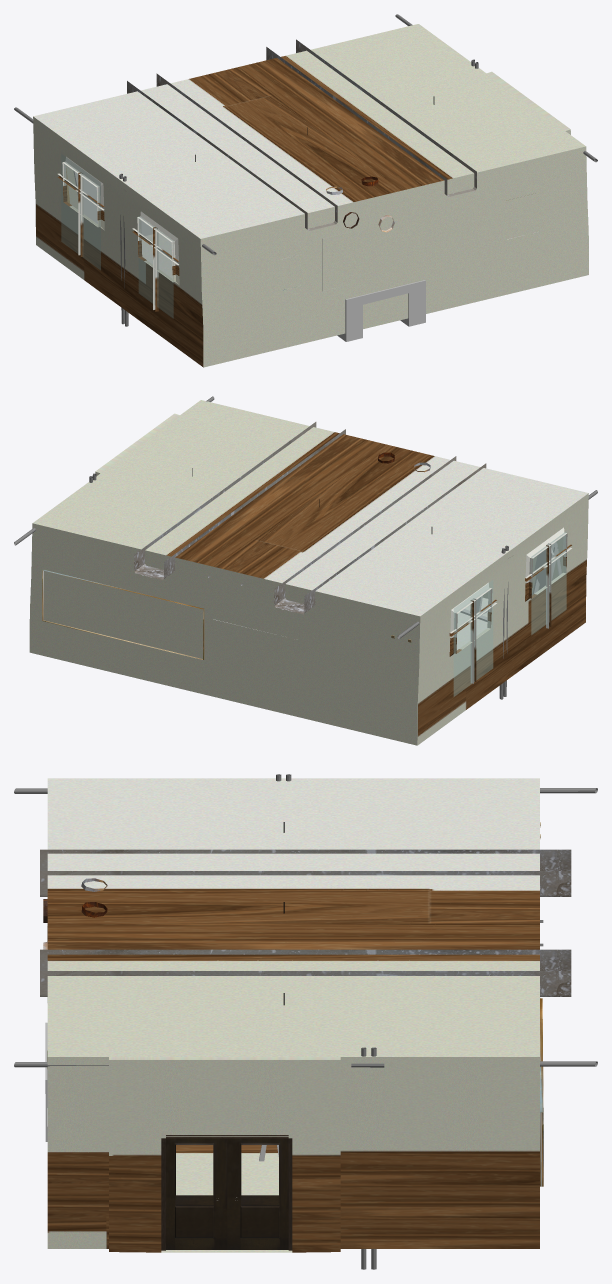
Rendered from Cal Peter's Studio V1.fbx.
The picture shows the model from 3 angles, top to bottom: view 1: azimuth 30°, elevation 25°; view 2: azimuth 150°, elevation 25°; view 3: azimuth 270°, elevation 25°; orthographic projection. The views are drawn at different scales.
Parts seen in each view (by area): view 1: room_boundaries, window_pane1, window_pane, desk, beam3, beam1, canvas12, window_part, window_part3; view 2: room_boundaries, window_pane1, window_pane, beam3, beam1, canvas9, window_part, window_part3; view 3: room_boundaries, beam3, beam1, door7, door8, door_frame, canvas9.
Part boxes in pixels (bbox=[...]): room_boundaries: bbox=[33, 24, 588, 367]; window_pane1: bbox=[61, 154, 100, 269]; window_pane: bbox=[139, 216, 173, 318]; desk: bbox=[337, 280, 425, 341]; beam3: bbox=[266, 39, 476, 196]; beam1: bbox=[127, 73, 337, 230]; canvas12: bbox=[73, 170, 152, 235]; window_part: bbox=[78, 172, 83, 256]; window_part3: bbox=[153, 227, 158, 311]; room_boundaries: bbox=[29, 400, 588, 745]; window_pane1: bbox=[454, 580, 492, 696]; window_pane: bbox=[531, 531, 566, 634]; beam3: bbox=[134, 422, 345, 579]; beam1: bbox=[274, 456, 486, 614]; canvas9: bbox=[42, 570, 204, 659]; window_part: bbox=[470, 598, 476, 683]; window_part3: bbox=[546, 543, 551, 628]; room_boundaries: bbox=[47, 778, 539, 1252]; beam3: bbox=[40, 949, 571, 996]; beam1: bbox=[40, 849, 571, 896]; door7: bbox=[227, 1138, 288, 1249]; door8: bbox=[166, 1138, 227, 1249]; door_frame: bbox=[161, 1135, 292, 1250]; canvas9: bbox=[540, 998, 543, 1186].
Size of the model in its own units: 13.39 by 4.91 by 11.57.
